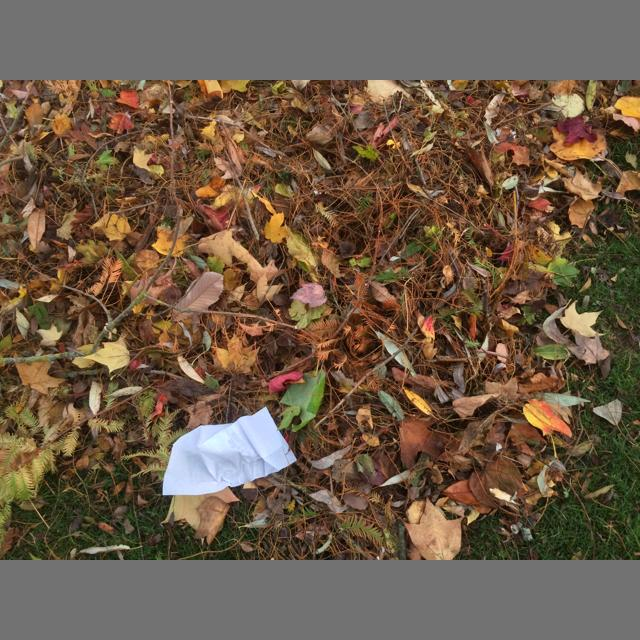litter: (163, 406, 297, 495)
